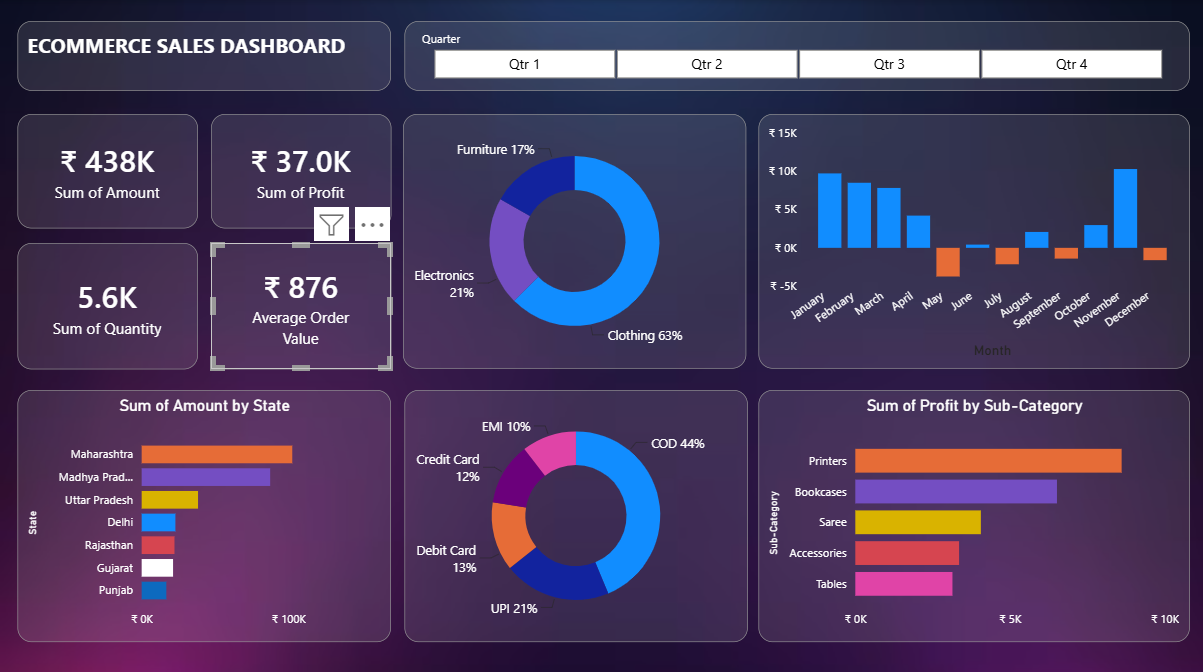

The dashboard page shown, as its layout file describes it:
{"tool":"powerbi","page":{"name":"Page 1","canvas":[1280,720],"ordinal":0},"visuals":[{"type":"textbox","box":[21.4,22.9,395.7,74.3],"z":0},{"type":"columnChart","title":"Profit by Month","fields":{"Category":["Orders.Order Date.Variation.Date Hierarchy.Month"],"Y":["Sum(Details.Profit)"]},"box":[807.1,121.4,457.1,270],"z":1000},{"type":"barChart","fields":{"Category":["Details.Sub-Category"],"Y":["Sum(Details.Profit)"]},"box":[807.1,414.3,457.1,267.1],"z":2000},{"type":"donutChart","fields":{"Category":["Details.Category"],"Y":["Sum(Details.Quantity)"]},"box":[430,121.4,364.3,270],"z":3000},{"type":"donutChart","fields":{"Y":["Sum(Details.Quantity)"],"Category":["Details.PaymentMode"]},"box":[431.4,414.3,364.3,267.1],"z":4000},{"type":"cardVisual","fields":{"Data":["Sum(Details.Amount)"]},"box":[21.4,121.4,191.4,121.4],"z":5000},{"type":"cardVisual","fields":{"Data":["Sum(Details.Profit)"]},"box":[225.7,121.4,191.4,121.4],"z":6000},{"type":"cardVisual","fields":{"Data":["Details.Average Order Value"]},"box":[225.7,257.1,191.4,134.3],"z":7000},{"type":"cardVisual","fields":{"Data":["Sum(Details.Quantity)"]},"box":[21.4,257.1,191.4,134.3],"z":8000},{"type":"barChart","fields":{"Category":["Orders.State"],"Y":["Sum(Details.Amount)"]},"box":[21.4,414.3,395.7,267.1],"z":9000},{"type":"slicer","fields":{"Values":["Orders.Order Date.Variation.Date Hierarchy.Quarter"]},"box":[431.4,22.9,832.9,74.3],"z":10000}]}

Visuals, with their boxes in screenshot pixels (x1, y1, x2, y2), scaled from the page's 1280x720 canvas onto the 1203x672 screenshot:
textbox: <region>20, 21, 392, 91</region>
"Profit by Month" columnChart: <region>759, 113, 1188, 365</region>
barChart - Details.Sub-Category x Sum(Details.Profit): <region>759, 387, 1188, 636</region>
donutChart - Details.Category x Sum(Details.Quantity): <region>404, 113, 747, 365</region>
donutChart - Sum(Details.Quantity) x Details.PaymentMode: <region>405, 387, 748, 636</region>
cardVisual - Sum(Details.Amount): <region>20, 113, 200, 227</region>
cardVisual - Sum(Details.Profit): <region>212, 113, 392, 227</region>
cardVisual - Details.Average Order Value: <region>212, 240, 392, 365</region>
cardVisual - Sum(Details.Quantity): <region>20, 240, 200, 365</region>
barChart - Orders.State x Sum(Details.Amount): <region>20, 387, 392, 636</region>
slicer - Orders.Order Date.Variation.Date Hierarchy.Quarter: <region>405, 21, 1188, 91</region>
